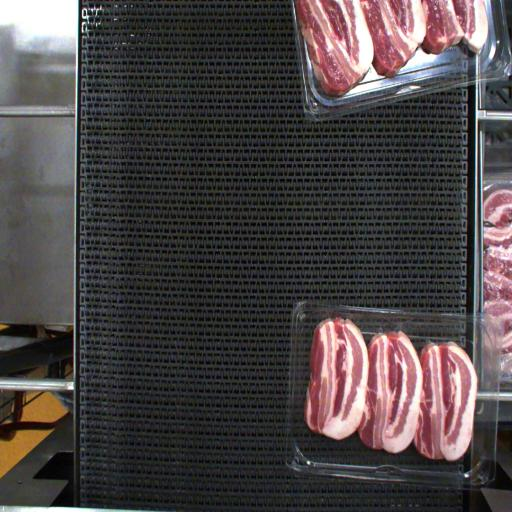packaging-error: (368, 384, 436, 408)
